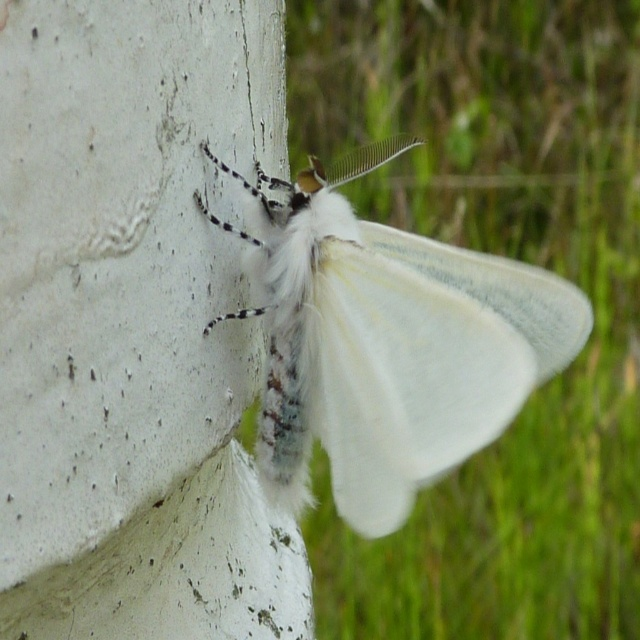Butterfly: (193, 132, 596, 541)
